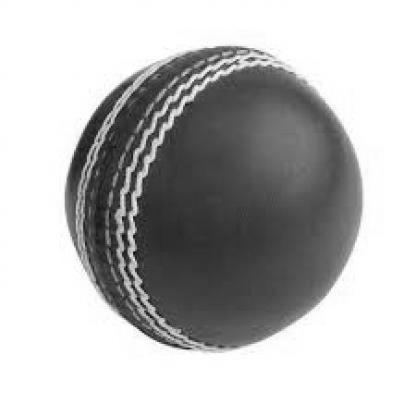bukan telur: (61, 45, 364, 351)
